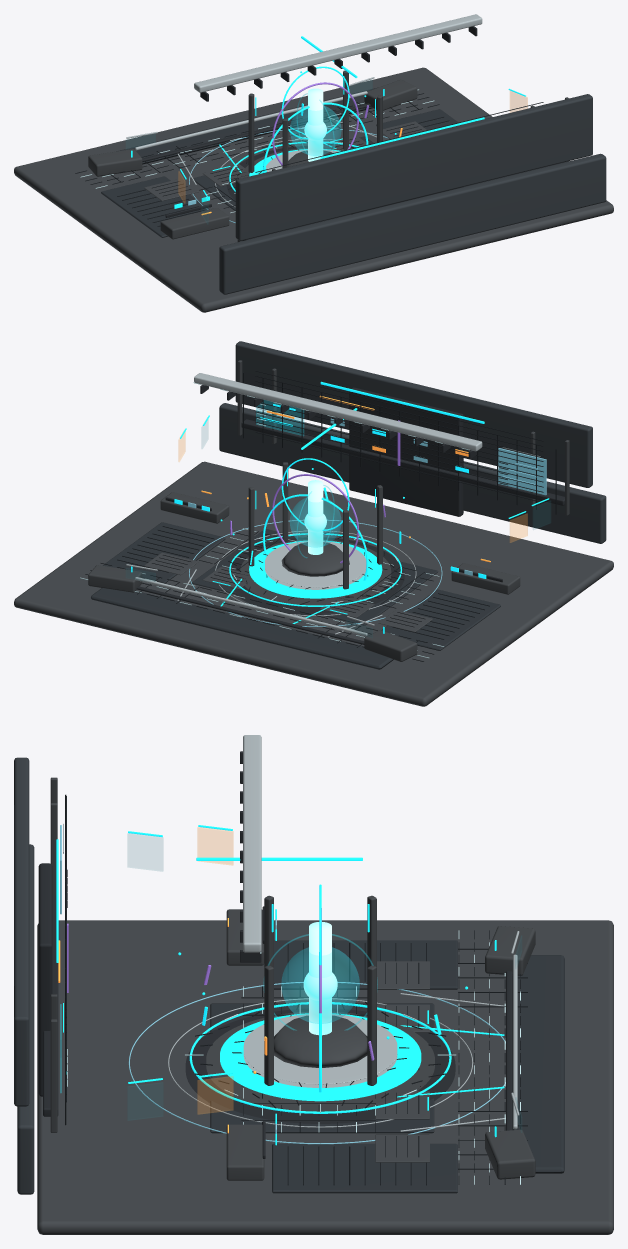
Rendered from reactor-command-center-blender.glb.
3 renders of one model, top to bottom at view 1: azimuth 30°, elevation 25°; view 2: azimuth 150°, elevation 25°; view 3: azimuth 270°, elevation 25°, orthographic. The views are drawn at different scales.
Parts seen in each view (by area): view 1: batched dark reactor wall alloy, batched satin graphite floor, batched recessed smoke glass floor panel, batched matte graphite containment frame, batched brushed titanium rails, batched etched black panel grooves, batched black anodized machinery, batched cyan reactor emissive, batched transparent reactor energy shell, batched contained reactor focal glow, batched low contrast command glass, batched violet power conduit emissive (+2 smaller); view 2: batched satin graphite floor, batched dark reactor wall alloy, batched black anodized machinery, batched recessed smoke glass floor panel, batched matte graphite containment frame, batched etched black panel grooves, batched brushed titanium rails, batched cyan reactor emissive, batched transparent reactor energy shell, batched soft blue diagnostic panel, batched contained reactor focal glow, batched low contrast command glass (+3 smaller); view 3: batched satin graphite floor, batched recessed smoke glass floor panel, batched matte graphite containment frame, batched black anodized machinery, batched brushed titanium rails, batched cyan reactor emissive, batched dark reactor wall alloy, batched etched black panel grooves, batched transparent reactor energy shell, batched low contrast command glass, batched contained reactor focal glow, batched amber transparent holo glass (+2 smaller).
Boxes of the visible parts, <box> form: batched dark reactor wall alloy: <box>219,94,606,294</box>; batched satin graphite floor: <box>14,67,613,312</box>; batched recessed smoke glass floor panel: <box>101,87,458,237</box>; batched matte graphite containment frame: <box>88,70,569,241</box>; batched brushed titanium rails: <box>126,14,482,207</box>; batched etched black panel grooves: <box>75,93,543,226</box>; batched black anodized machinery: <box>142,26,567,240</box>; batched cyan reactor emissive: <box>131,36,525,208</box>; batched transparent reactor energy shell: <box>290,93,341,155</box>; batched contained reactor focal glow: <box>304,88,326,161</box>; batched low contrast command glass: <box>126,79,372,223</box>; batched violet power conduit emissive: <box>272,82,368,165</box>; batched satin graphite floor: <box>14,461,613,706</box>; batched dark reactor wall alloy: <box>219,341,606,543</box>; batched black anodized machinery: <box>136,385,564,644</box>; batched recessed smoke glass floor panel: <box>91,522,500,669</box>; batched matte graphite containment frame: <box>88,360,569,661</box>; batched etched black panel grooves: <box>85,370,556,661</box>; batched brushed titanium rails: <box>126,373,540,637</box>; batched cyan reactor emissive: <box>131,381,549,633</box>; batched transparent reactor energy shell: <box>256,400,341,557</box>; batched soft blue diagnostic panel: <box>188,418,546,626</box>; batched contained reactor focal glow: <box>304,480,326,554</box>; batched low contrast command glass: <box>126,421,550,637</box>; batched satin graphite floor: <box>37,920,613,1234</box>; batched recessed smoke glass floor panel: <box>210,940,564,1193</box>; batched matte graphite containment frame: <box>50,777,535,1180</box>; batched black anodized machinery: <box>38,751,512,1158</box>; batched brushed titanium rails: <box>63,735,519,1131</box>; batched cyan reactor emissive: <box>56,825,504,1145</box>; batched dark reactor wall alloy: <box>14,757,34,1194</box>; batched etched black panel grooves: <box>65,794,527,1185</box>; batched transparent reactor energy shell: <box>60,934,377,1092</box>; batched low contrast command glass: <box>128,833,521,1132</box>; batched contained reactor focal glow: <box>303,922,337,1035</box>; batched amber transparent holo glass: <box>197,827,233,1114</box>.
Bounding box in the file's own units: 8.45 × 3.53 × 7.03.
